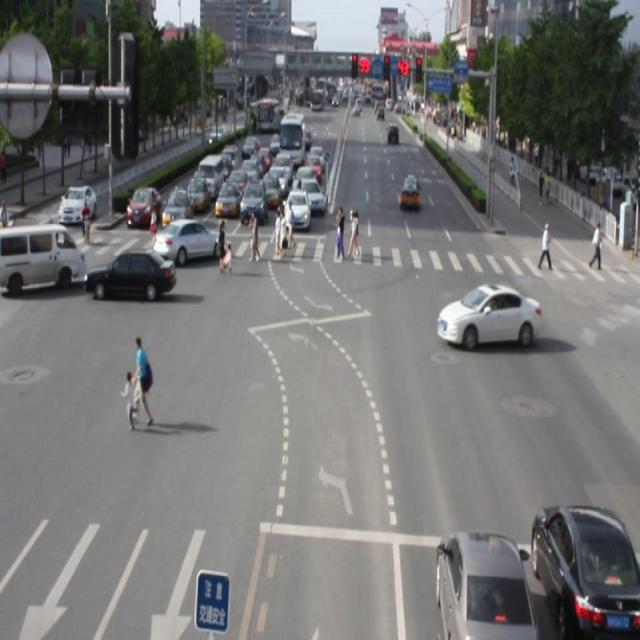car: (523, 495, 640, 640), (429, 524, 530, 640), (436, 283, 540, 349), (85, 248, 176, 301), (155, 217, 223, 263)
